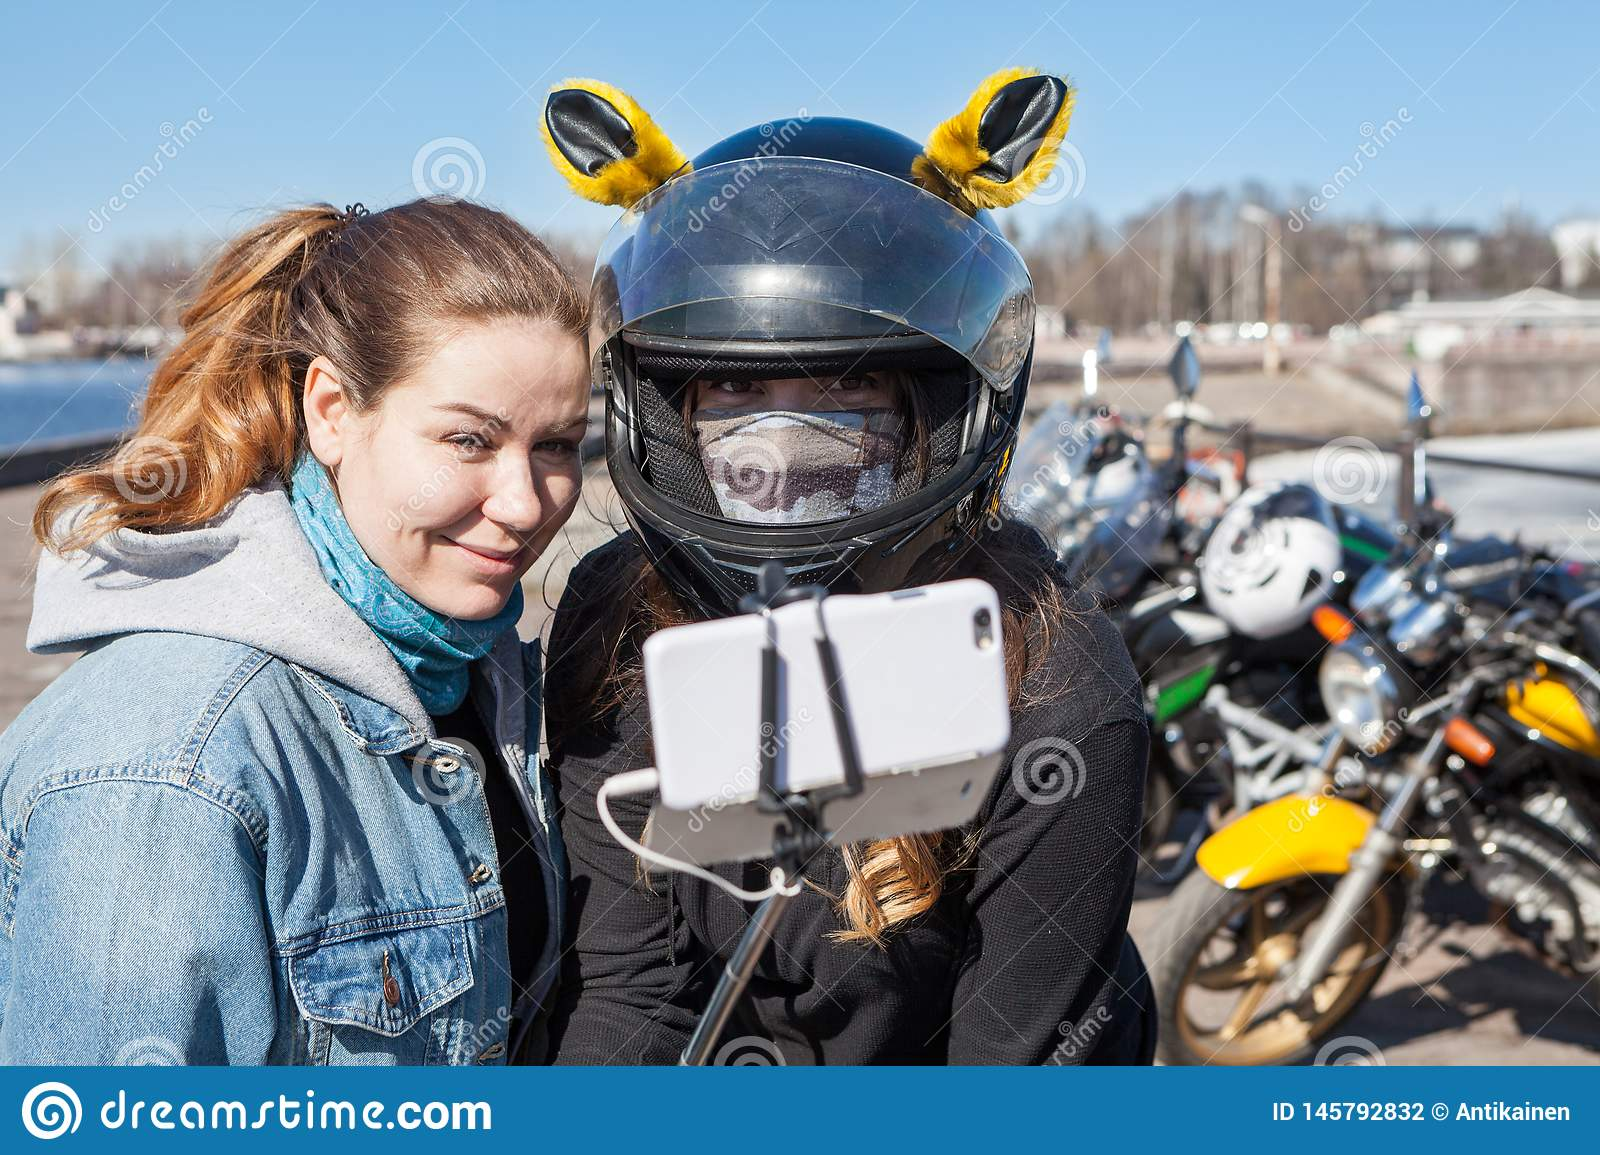helmet: (594, 130, 1046, 601)
